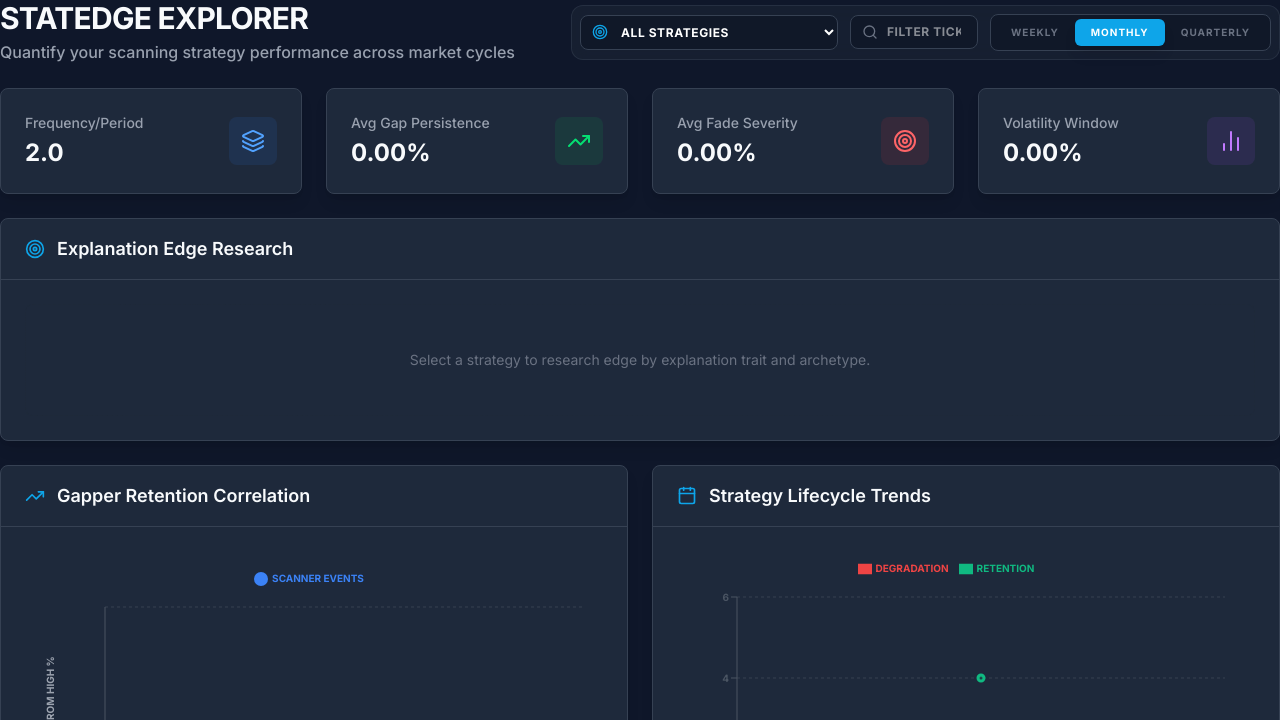
Test: EdgeExplorer explanation intelligence › shows a no-analog drill-down state
Step 1. Select "Pre Market Volume Spike" in the dropdown named "Strategy filter" → (709, 32), box top-left (580, 14), bottom-right (838, 50)
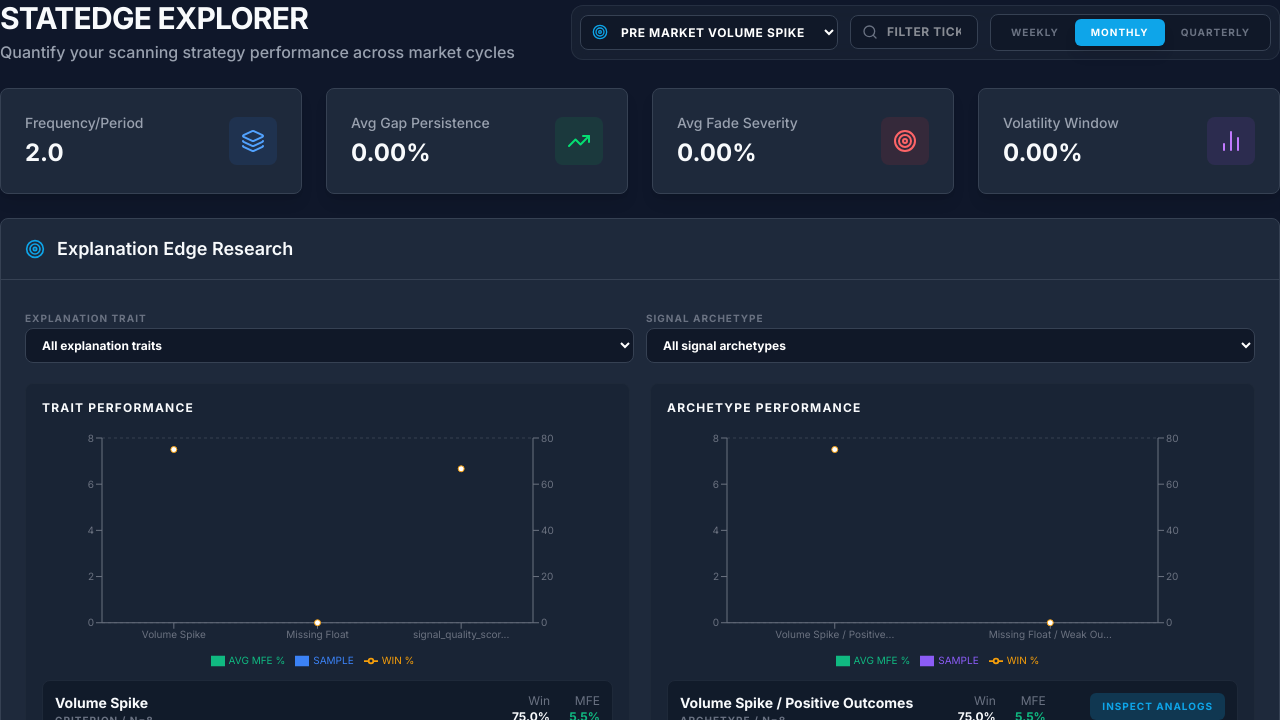
Step 2. Click the button "Inspect analogs" → (1158, 706), box top-left (1090, 693), bottom-right (1225, 719)
(page scrolled)
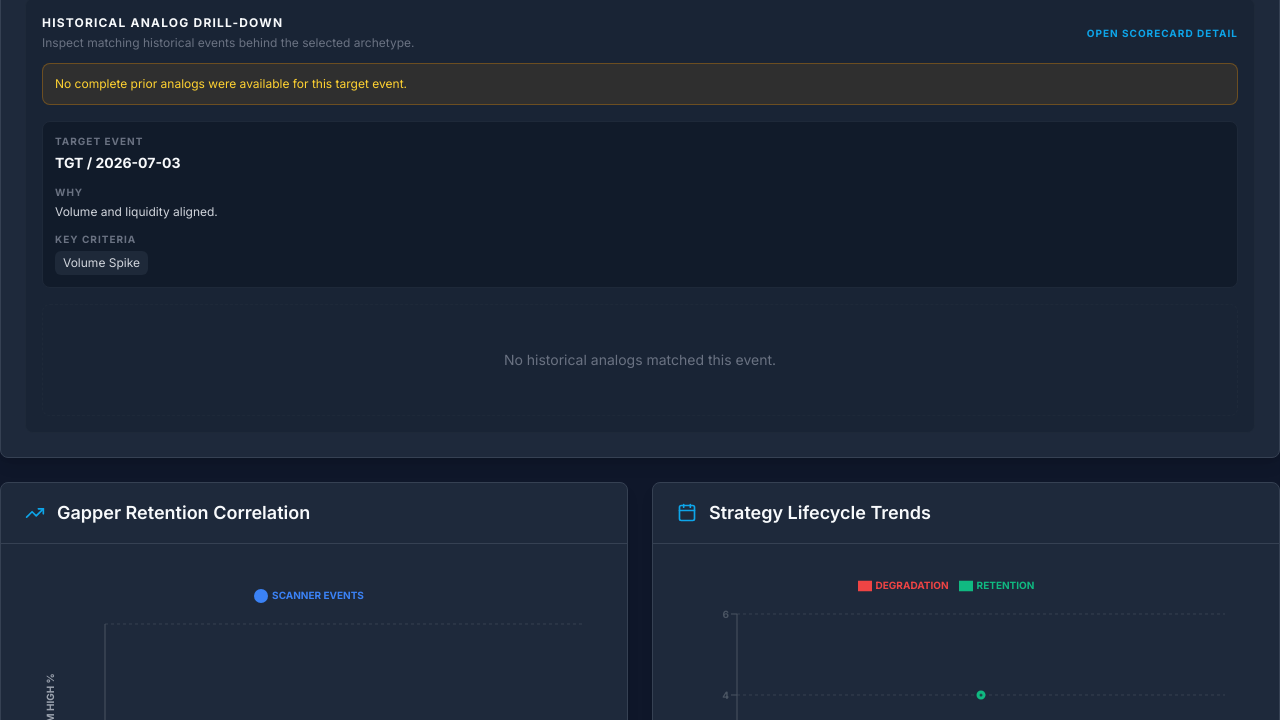
Now the text "No complete prior analogs were available" is shown, box top-left (55, 76), bottom-right (407, 91)
Now the text "No historical analogs matched this event." is shown, box top-left (42, 304), bottom-right (1238, 416)
